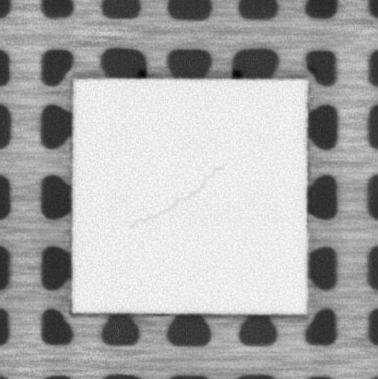DIE_CRACK: (130, 162, 225, 229)
